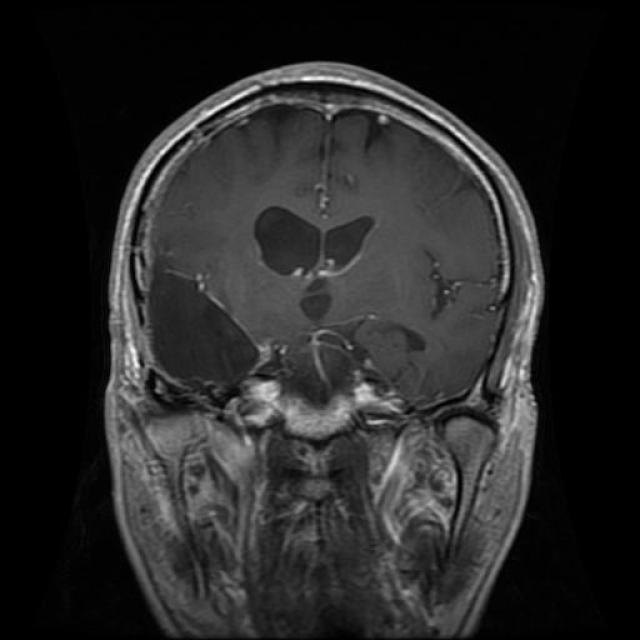glioma: (251, 206, 381, 322)
